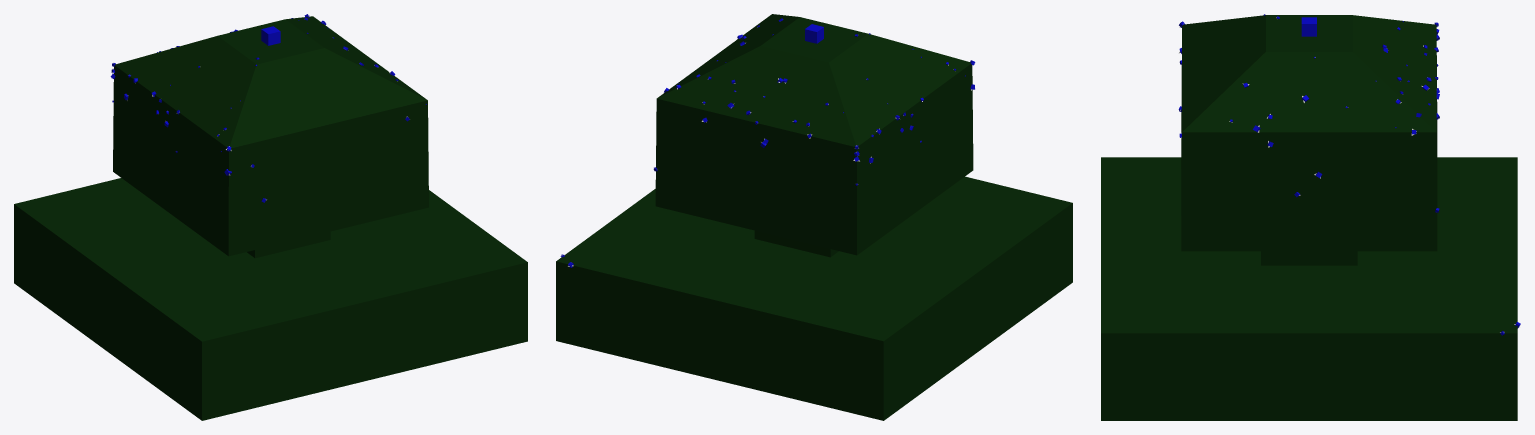
Rendered from berry_tile.obj.
3 renders of one model, left to right at view 1: azimuth 30°, elevation 25°; view 2: azimuth 150°, elevation 25°; view 3: azimuth 270°, elevation 25°, orthographic. The views are drawn at different scales.
Visible parts, largest first — view 1: Cube.004, Cube.005_-_copy; view 2: Cube.004, Cube.005_-_copy; view 3: Cube.004, Cube.005_-_copy.
Boxes of the visible parts, x1,y1,x2,y2 form: Cube.004: (14,16,527,420); Cube.005_-_copy: (110,14,426,202); Cube.004: (556,14,1072,420); Cube.005_-_copy: (560,18,975,267); Cube.004: (1101,15,1517,420); Cube.005_-_copy: (1178,14,1520,335).
Bounding box in the file's own units: 2.01 × 1.65 × 2.02.
